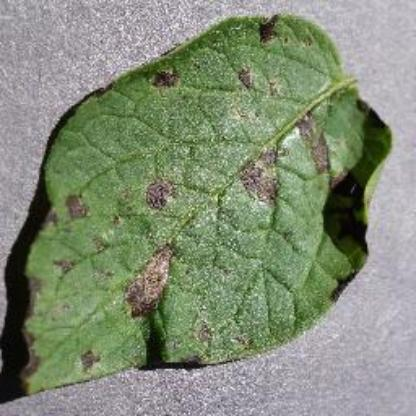Early-Blight: (12, 10, 392, 398)
